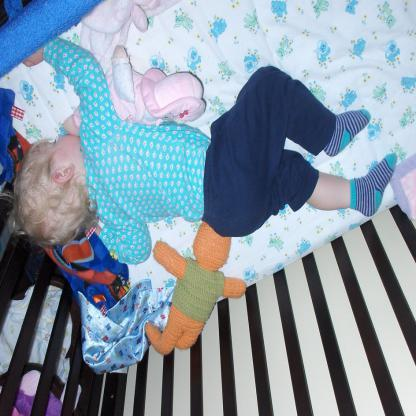baby: (10, 38, 398, 265)
